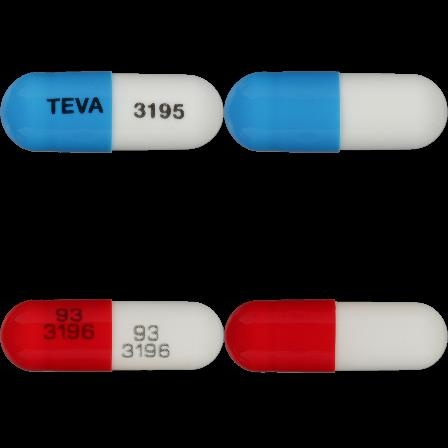0093-3195: (0, 0, 224, 224)
